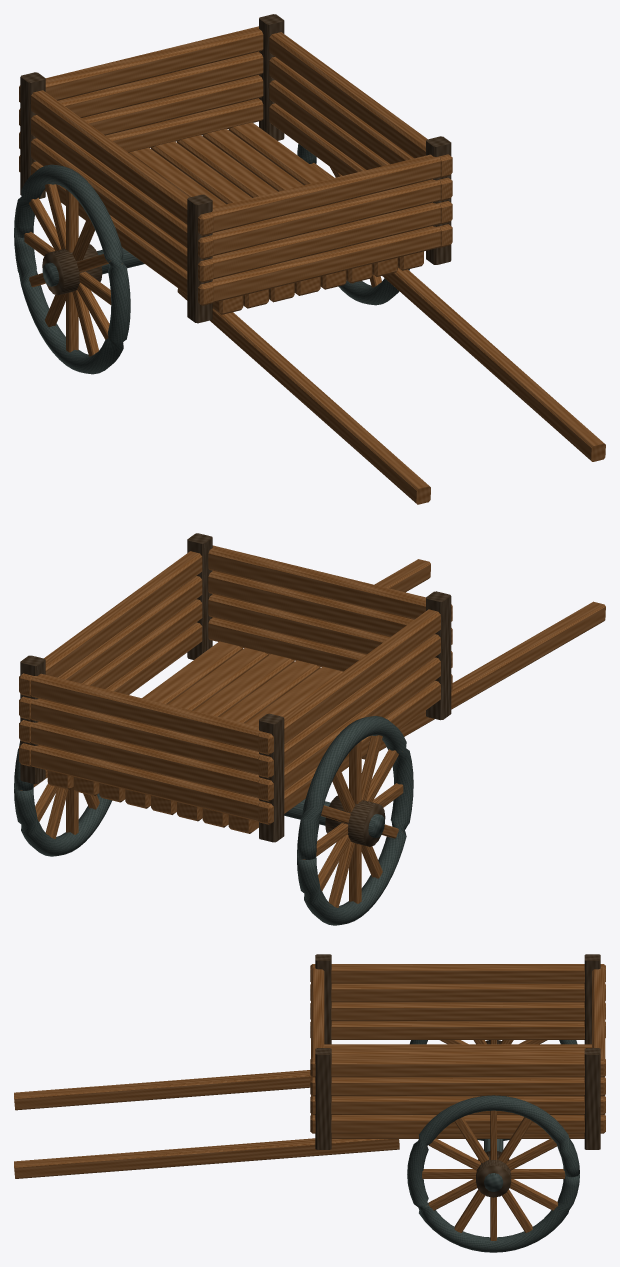
Rendered from handcart.glb.
3 views of the same model, one above another, from view 1: azimuth 30°, elevation 25°; view 2: azimuth 150°, elevation 25°; view 3: azimuth 270°, elevation 25° (orthographic). The views are drawn at different scales.
Visible parts, largest first — view 1: handcart_Joinery, handcart_Metalwork; view 2: handcart_Joinery, handcart_Metalwork; view 3: handcart_Joinery, handcart_Metalwork.
Boxes of the visible parts, box(x1,y1,x2,y2) form: handcart_Joinery: box(19, 14, 605, 504); handcart_Metalwork: box(14, 144, 409, 374); handcart_Joinery: box(19, 533, 605, 907); handcart_Metalwork: box(14, 716, 413, 925); handcart_Joinery: box(14, 954, 605, 1240); handcart_Metalwork: box(407, 1040, 579, 1252).
Bounding box in the file's own units: 2.08 × 1.44 × 4.
Materials: 2 (2 with a texture image).
